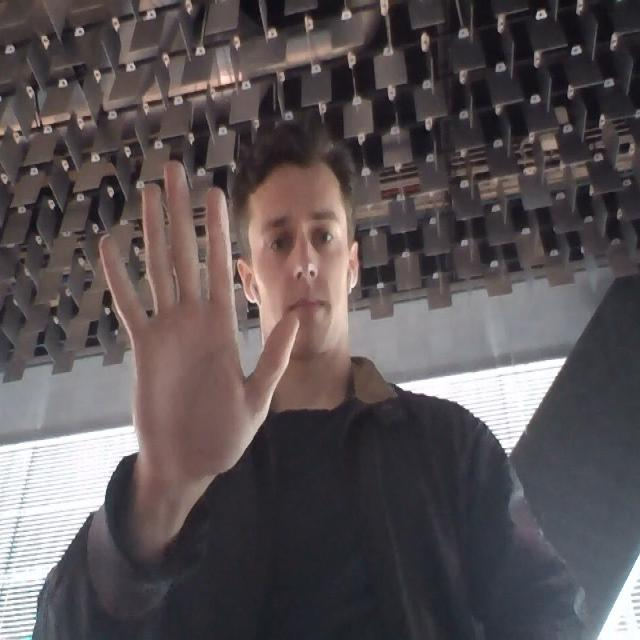backward: (92, 159, 309, 469)
